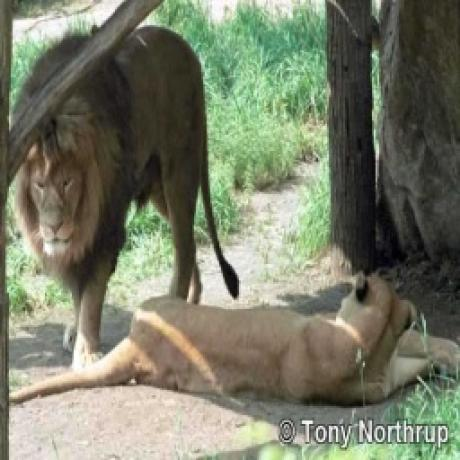Lion: (13, 24, 241, 371), (10, 271, 446, 406)
